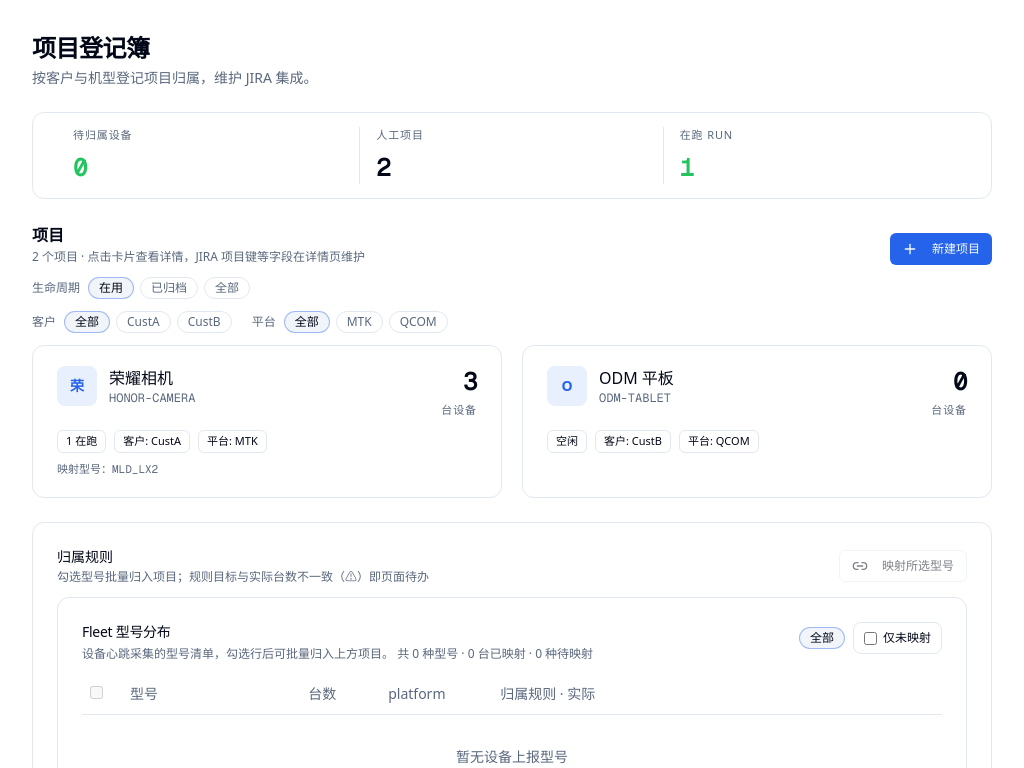
Test: ProjectsPage › filters cards by facet selection
Expected: the heading "荣耀相机" is shown, [109,366,173,388]
Click the button with test id "facet-customer-CustA".
click(143, 322)  # box [116,310,171,332]
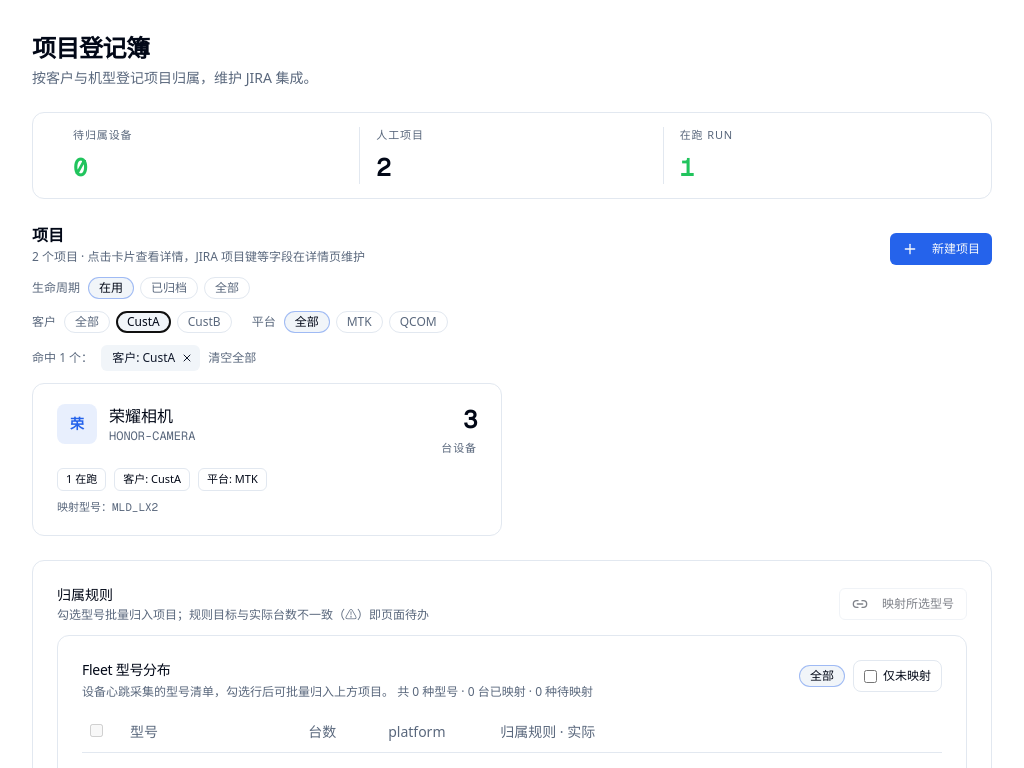
Expected: the heading "荣耀相机" is shown, [109,404,173,426]
Result: the button "ODM 平板" is gone
